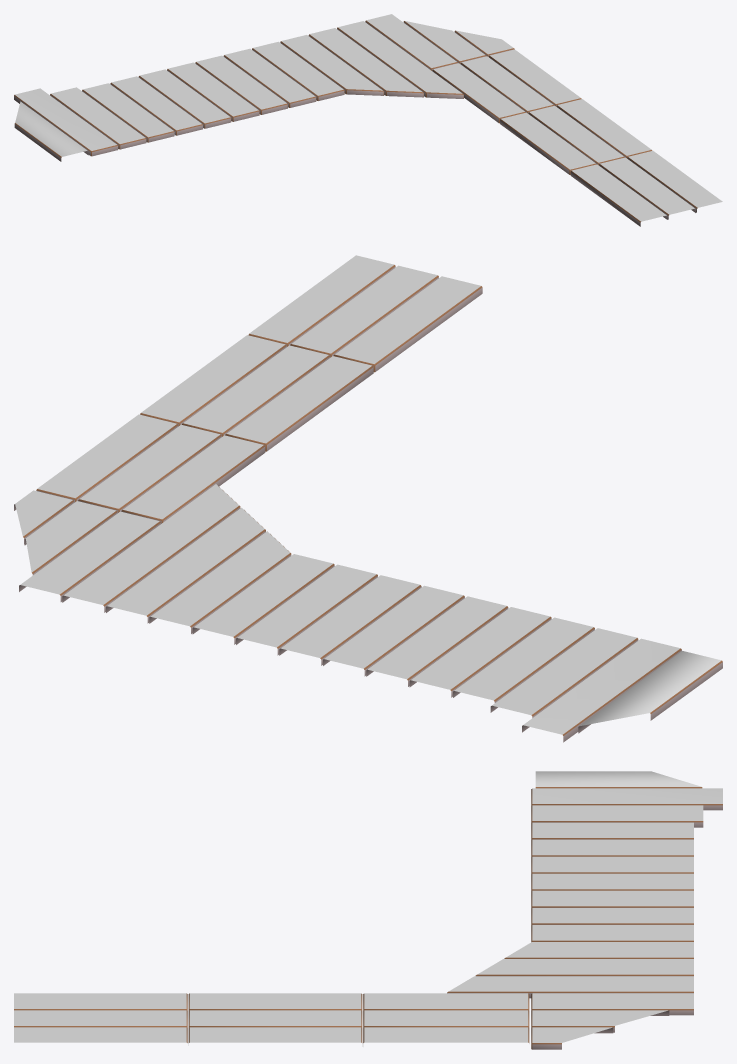
File: WoodFloor.fbx
3 views of the same model, one above another, from view 1: azimuth 30°, elevation 25°; view 2: azimuth 150°, elevation 25°; view 3: azimuth 270°, elevation 25° (orthographic). The views are drawn at different scales.
Parts seen in each view (by area): view 1: WoodFloor; view 2: WoodFloor; view 3: WoodFloor.
Part boxes in pixels (left/top/right/bottom): WoodFloor: left=14, top=14, right=722, bottom=226; WoodFloor: left=14, top=255, right=722, bottom=742; WoodFloor: left=14, top=771, right=722, bottom=1049.
Size of the model in its own units: 12.77 by 0.135 by 14.04.
